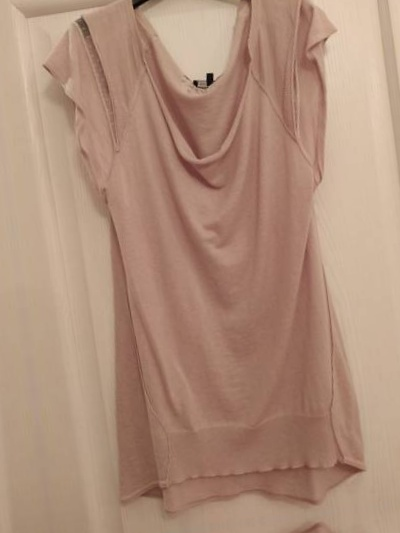Dress: (40, 0, 400, 523), (111, 521, 400, 533)
